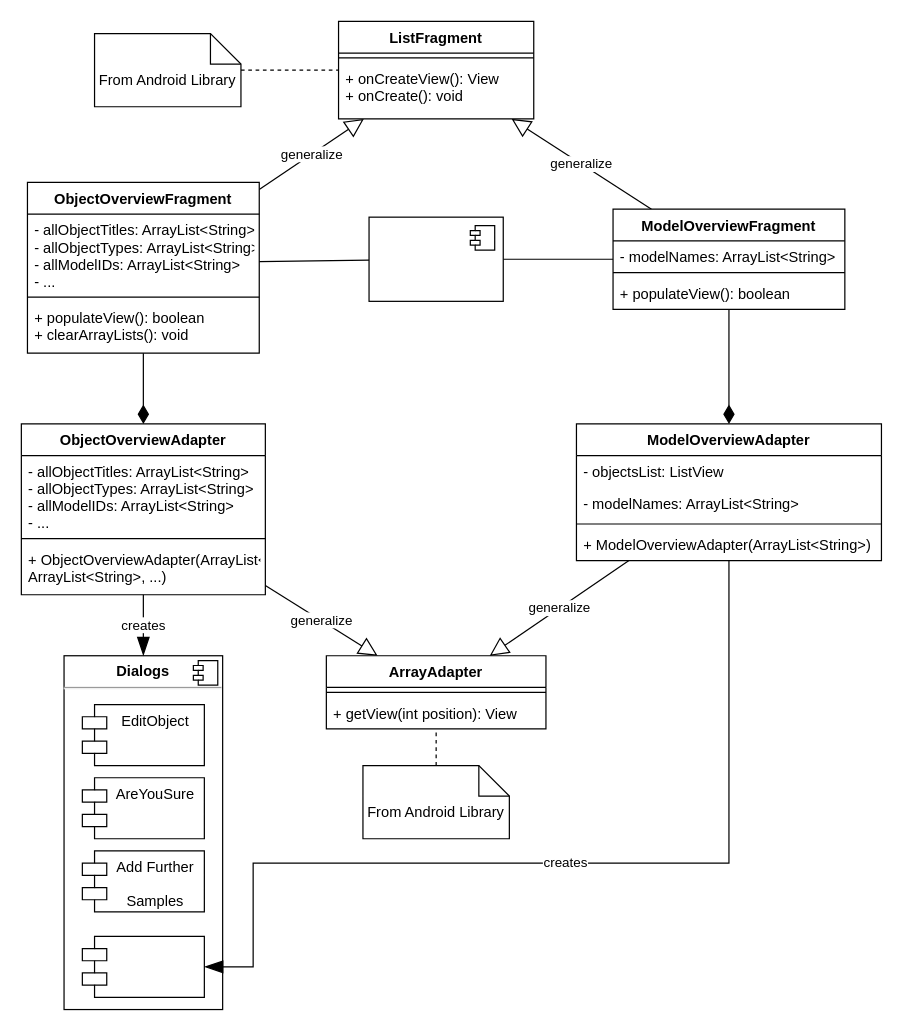
Some shapes in this 903 by 1031 pixel diagram are drawn without their labels. Each missing label, with the centre of its shape:
"Objects In Model" belongs at pixel 142 966.
"Persistence" belongs at pixel 435 258.
